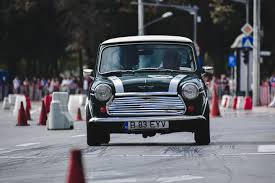car: (87, 39, 211, 145)
cone: (67, 150, 85, 181), (212, 89, 222, 117), (17, 101, 27, 125), (39, 101, 47, 125), (75, 108, 83, 120)
